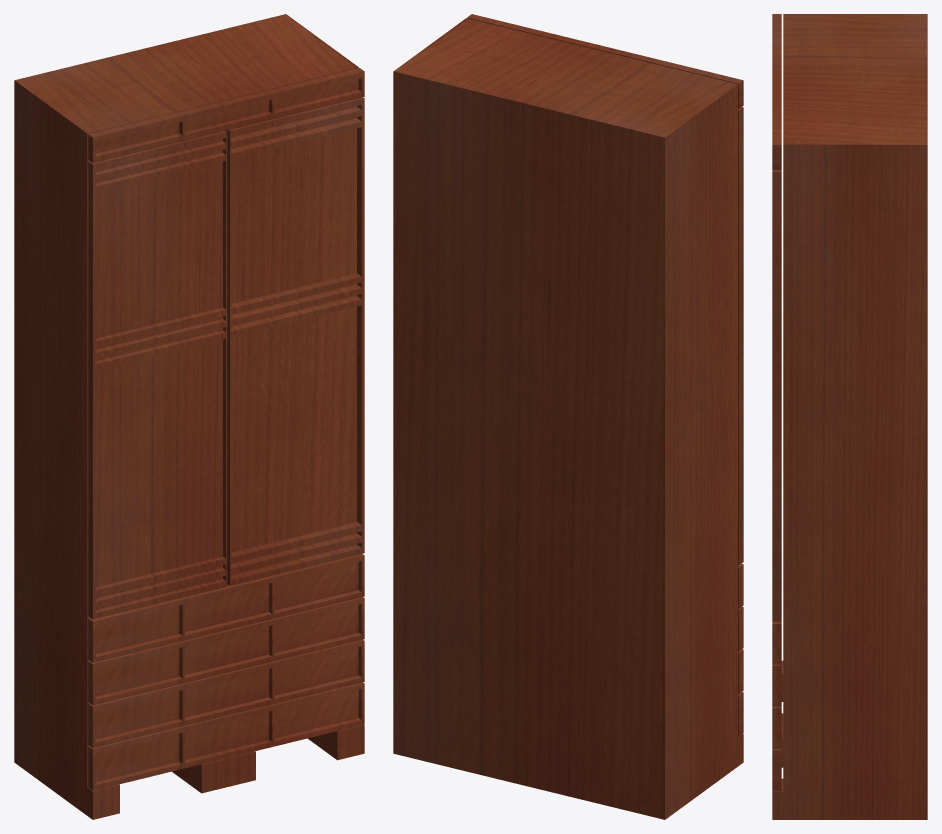
The model's file is sweethome3d-lucapresidente-wardrobe-cherry.glb.
3 views of the same model, side by side, from view 1: azimuth 30°, elevation 25°; view 2: azimuth 150°, elevation 25°; view 3: azimuth 270°, elevation 25° (orthographic).
Parts seen in each view (by area): view 1: Box22_16, Box17_11, Line17_18, Line12_4, Box15_6, Box16_8, Box12_1, Box14_5, Line16_17, Line15_10, Line14_9, Line13_7 (+5 smaller); view 2: Box22_16, Box13_3, Box19_13, Line12_4, Line16_17, Box20_14; view 3: Box22_16, Line17_18, Box20_14, Line16_17, Line15_10, Line11_2, Line13_7, Line14_9.
Part boxes in pixels (left/top/right/bottom): Box22_16: left=14, top=14, right=358, bottom=787; Box17_11: left=95, top=138, right=222, bottom=609; Line17_18: left=226, top=97, right=364, bottom=585; Line12_4: left=88, top=131, right=227, bottom=619; Box15_6: left=95, top=647, right=358, bottom=739; Box16_8: left=95, top=604, right=358, bottom=696; Box12_1: left=95, top=562, right=358, bottom=653; Box14_5: left=95, top=690, right=358, bottom=781; Line16_17: left=88, top=68, right=364, bottom=162; Line15_10: left=88, top=554, right=364, bottom=662; Line14_9: left=88, top=597, right=364, bottom=705; Line13_7: left=88, top=639, right=364, bottom=747; Box22_16: left=393, top=18, right=737, bottom=791; Box13_3: left=420, top=732, right=637, bottom=813; Box19_13: left=638, top=734, right=743, bottom=819; Line12_4: left=738, top=107, right=743, bottom=565; Line16_17: left=467, top=14, right=743, bottom=109; Box20_14: left=393, top=725, right=420, bottom=760; Box22_16: left=783, top=14, right=927, bottom=791; Line17_18: left=772, top=170, right=781, bottom=621; Box20_14: left=772, top=778, right=927, bottom=819; Line16_17: left=772, top=14, right=781, bottom=170; Line15_10: left=772, top=621, right=781, bottom=664; Line11_2: left=772, top=749, right=781, bottom=791; Line13_7: left=772, top=706, right=781, bottom=748; Line14_9: left=772, top=664, right=781, bottom=706.
Bounding box in the file's own units: 100 × 240 × 50.
1 material, 1 textured.
